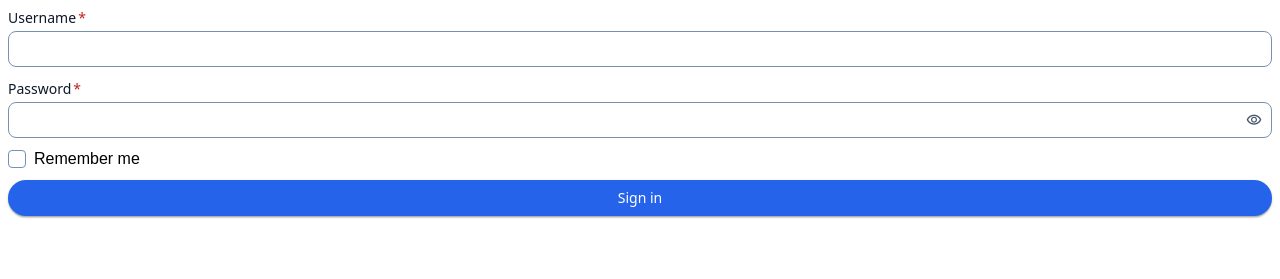
Login › blocks empty submit with field errors
Click the button "Sign in".
click(640, 198)  # box 8,180 -> 1272,216
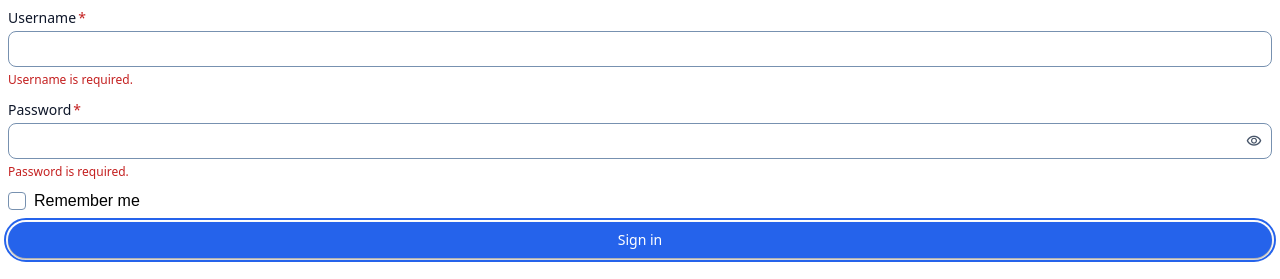
Check: the text "Username is required." is shown, box 8,71 -> 133,88
Check: the text "Password is required." is shown, box 8,163 -> 129,180
